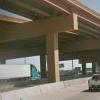Bridge: (4, 3, 97, 60)
